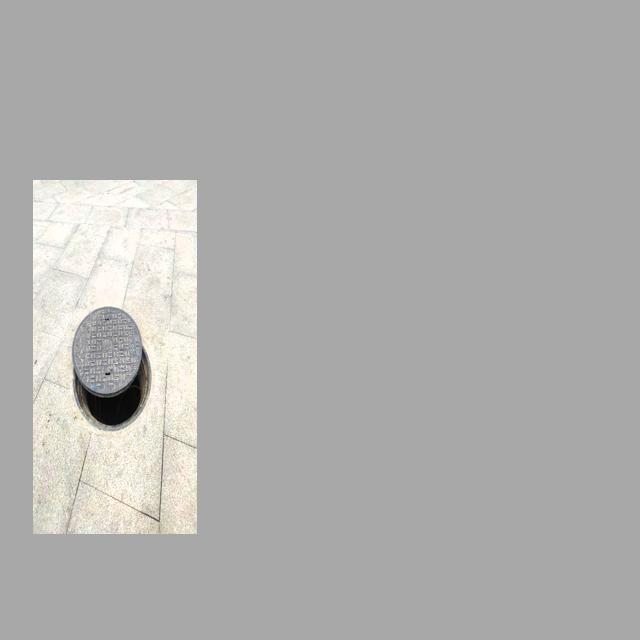uncovered: (72, 305, 152, 432)
